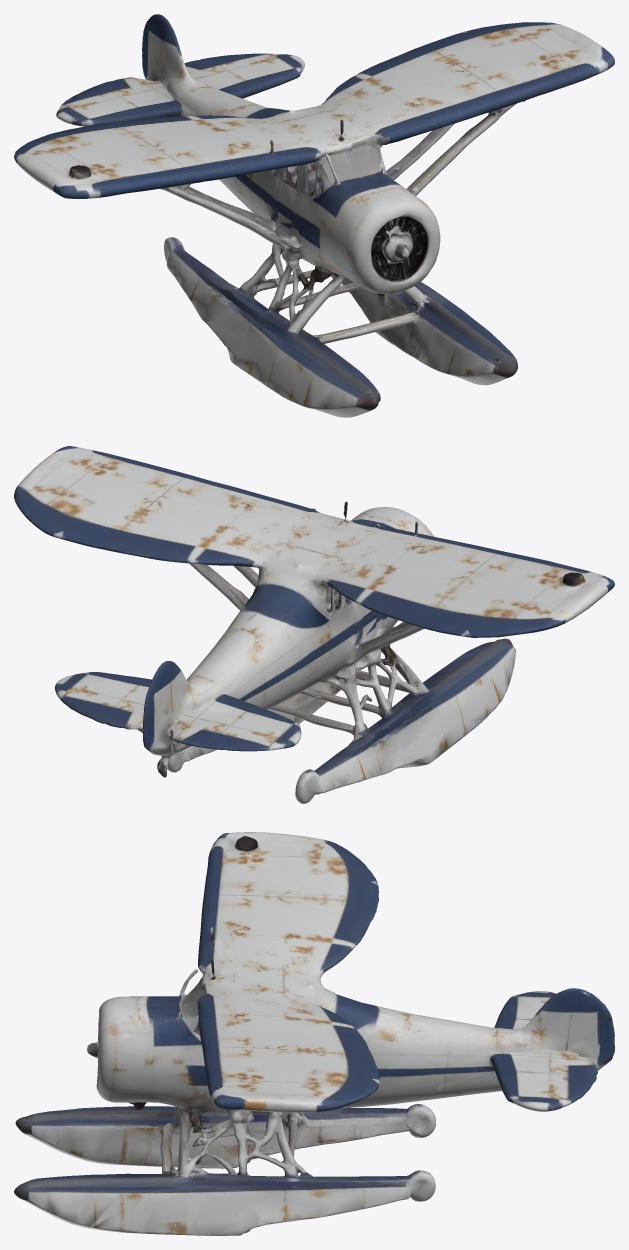
Rendered from seaplane_body.glb.
3 views of the same model, one above another, from view 1: azimuth 30°, elevation 25°; view 2: azimuth 150°, elevation 25°; view 3: azimuth 270°, elevation 25° (orthographic).
Bounding box in the file's own units: 2 × 0.8321 × 1.88.
1 material, 1 textured.
